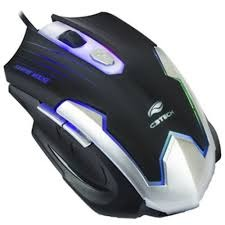mouse: (1, 8, 221, 220)
